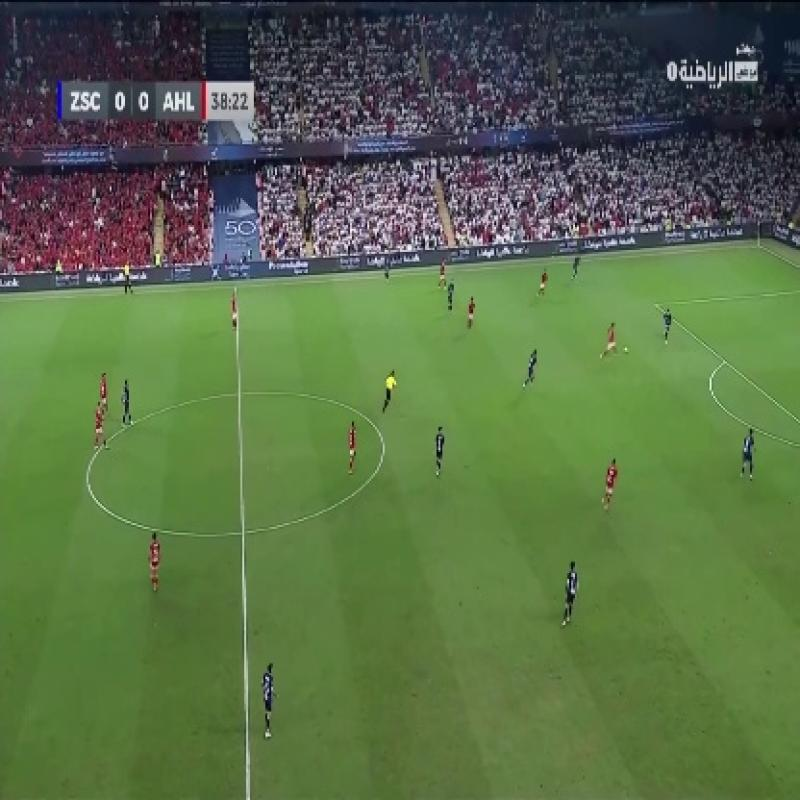1: (748, 236, 766, 252)
10: (716, 350, 731, 368)
13: (230, 280, 242, 295)
14: (225, 377, 252, 408)
15: (229, 514, 254, 546)
9: (646, 294, 662, 312)
c: (368, 424, 402, 462), (74, 462, 104, 497)
